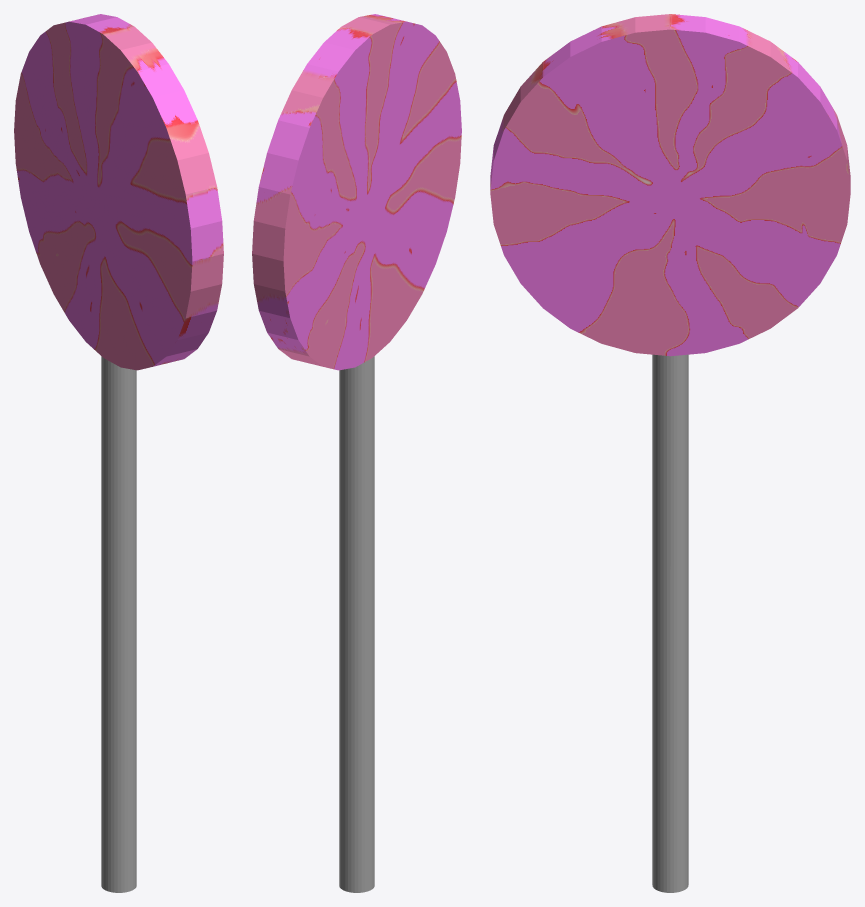
Rendered from lolipop4pp.fbx.
3 views of the same model, side by side, from view 1: azimuth 30°, elevation 25°; view 2: azimuth 150°, elevation 25°; view 3: azimuth 270°, elevation 25° (orthographic).
Parts seen in each view (by area): view 1: Cylinder.001, Cylinder; view 2: Cylinder.001, Cylinder; view 3: Cylinder.001, Cylinder.
Part boxes in pixels (left/top/right/bottom): Cylinder.001: left=14, top=14, right=223, bottom=370; Cylinder: left=101, top=356, right=136, bottom=892; Cylinder.001: left=252, top=14, right=461, bottom=370; Cylinder: left=339, top=356, right=374, bottom=892; Cylinder.001: left=490, top=14, right=850, bottom=356; Cylinder: left=652, top=354, right=688, bottom=892.
Size of the model in its own units: 204 by 5286 by 2000.
2 materials, 1 textured.
